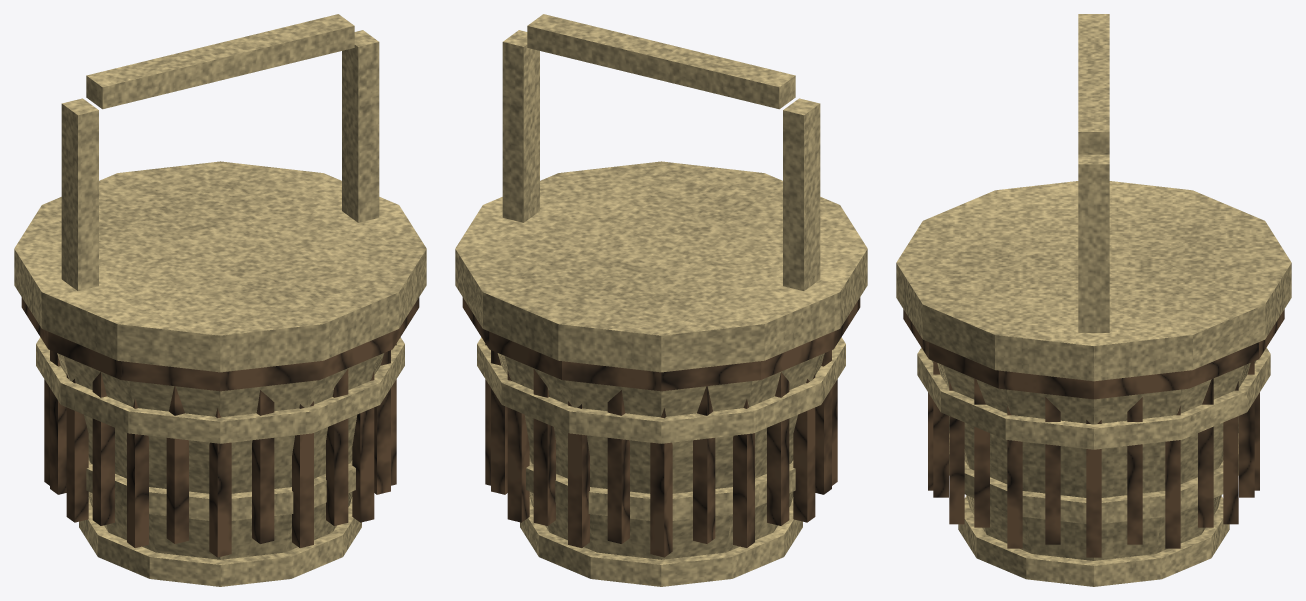
The model's file is bamboo_basket.fbx.
3 renders of one model, left to right at view 1: azimuth 30°, elevation 25°; view 2: azimuth 150°, elevation 25°; view 3: azimuth 270°, elevation 25°, orthographic. The views are drawn at different scales.
Parts seen in each view (by area): view 1: bamboo_basket; view 2: bamboo_basket; view 3: bamboo_basket.
Part boxes in pixels (x1=…): bamboo_basket: x1=14, y1=14, x2=426, y2=586; bamboo_basket: x1=455, y1=14, x2=867, y2=586; bamboo_basket: x1=896, y1=14, x2=1291, y2=586.
Size of the model in its own units: 51 by 65 by 51.
